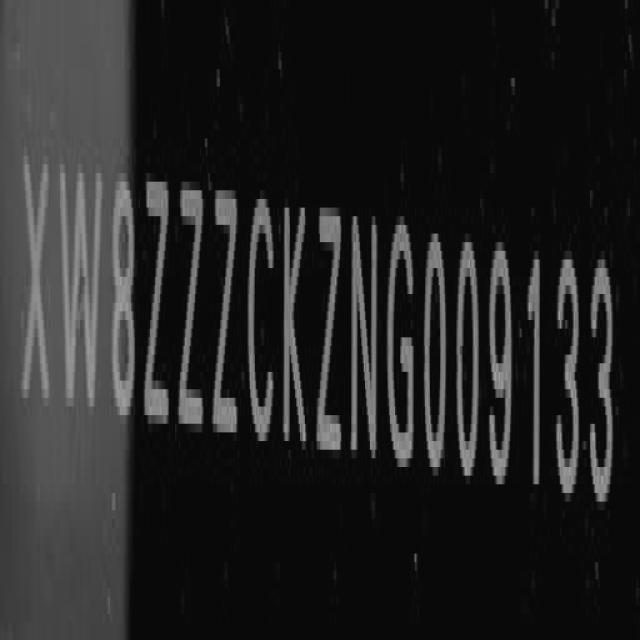0: (456, 222, 483, 488), (422, 218, 448, 486)
1: (525, 243, 543, 506)
3: (554, 243, 581, 512), (593, 256, 620, 519)
8: (113, 169, 137, 438)
9: (487, 230, 515, 496)
C: (250, 184, 276, 455)
G: (386, 205, 416, 482)
K: (282, 179, 309, 461)
N: (350, 194, 381, 476)
W: (57, 148, 103, 430)
X: (20, 138, 51, 425)
Z: (213, 170, 241, 456), (143, 162, 169, 446), (318, 193, 342, 469), (182, 174, 206, 447)
